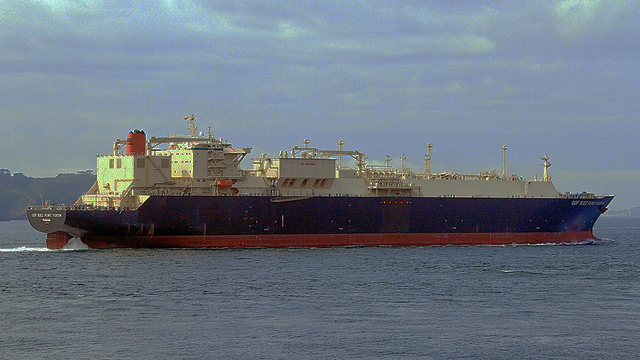LNG_ship: (24, 113, 615, 243)
